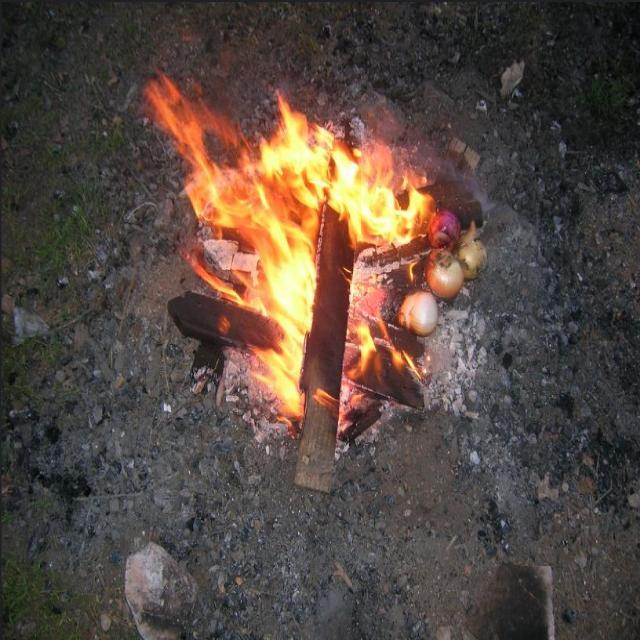Fire: (134, 67, 456, 410)
